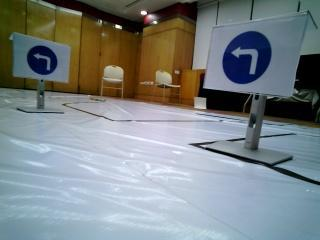left: (209, 26, 285, 89), (17, 39, 64, 79)
